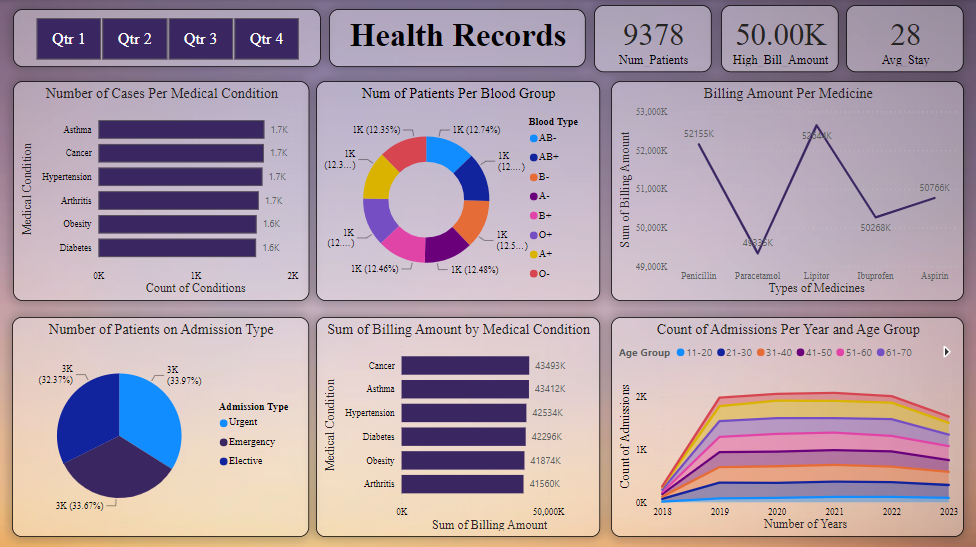

What the dashboard file says about the page in this screenshot:
{"tool":"powerbi","page":{"name":"Page 1","canvas":[1280,720],"ordinal":0},"visuals":[{"type":"textbox","box":[433.5,12.4,335.8,75.7],"z":0},{"type":"slicer","fields":{"Values":["health records.Date of Admission.Variation.Date Hierarchy.Quarter"]},"box":[19.3,12.4,403.3,75.7],"z":1000},{"type":"card","fields":{"Values":["health records.Num_Patients"]},"box":[780.4,6.9,154.2,88.1],"z":2000},{"type":"lineChart","title":"Billing Amount Per Medicine","fields":{"Category":["health records.Medication"],"Y":["Sum(health records.Billing Amount)"]},"box":[802.4,106,462.5,287.7],"z":3000},{"type":"barChart","title":"Number of Cases Per Medical Condition","fields":{"Y":["CountNonNull(health records.Medical Condition)"],"Category":["health records.Medical Condition"]},"box":[19.3,106,388.1,287.7],"z":4000},{"type":"card","fields":{"Values":["health records.High_Bill_Amount"]},"box":[946.9,6.9,154.2,88.1],"z":5000},{"type":"card","fields":{"Values":["health records.Avg_Stay"]},"box":[1110.7,6.9,154.2,88.1],"z":6000},{"type":"donutChart","title":"Num of Patients Per Blood Group","fields":{"Category":["health records.Blood Type"],"Y":["health records.Num_Patients"]},"box":[415.7,106,371.6,287.7],"z":7000},{"type":"pieChart","title":"Number of Patients on Admission Type","fields":{"Y":["health records.Num_Patients"],"Category":["health records.Admission Type"]},"box":[18.7,414.7,388.8,288],"z":8000},{"type":"stackedAreaChart","title":"Count of Admissions Per Year and Age Group","fields":{"Category":["health records.Date of Admission.Variation.Date Hierarchy.Year","health records.Date of Admission.Variation.Date Hierarchy.Quarter","health records.Date of Admission.Variation.Date Hierarchy.Month","health records.Date of Admission.Variation.Date Hierarchy.Day"],"Series":["health records.Age Group"],"Y":["CountNonNull(health records.Date of Admission)"]},"box":[802.1,414.7,462.2,288],"z":9000},{"type":"barChart","fields":{"Y":["Sum(health records.Billing Amount)"],"Category":["health records.Medical Condition"]},"box":[416.2,414.7,371.5,288],"z":9001}]}

Visuals, with their boxes in screenshot pixels (x1, y1, x2, y2), scaled from the page's 1280x720 canvas onto the 976x547 screenshot:
textbox: 331, 9, 587, 67
slicer - health records.Date of Admission.Variation.Date Hierarchy.Quarter: 15, 9, 322, 67
card - health records.Num_Patients: 595, 5, 713, 72
"Billing Amount Per Medicine" lineChart: 612, 81, 964, 299
"Number of Cases Per Medical Condition" barChart: 15, 81, 311, 299
card - health records.High_Bill_Amount: 722, 5, 840, 72
card - health records.Avg_Stay: 847, 5, 964, 72
"Num of Patients Per Blood Group" donutChart: 317, 81, 600, 299
"Number of Patients on Admission Type" pieChart: 14, 315, 311, 534
"Count of Admissions Per Year and Age Group" stackedAreaChart: 612, 315, 964, 534
barChart - Sum(health records.Billing Amount) x health records.Medical Condition: 317, 315, 601, 534
